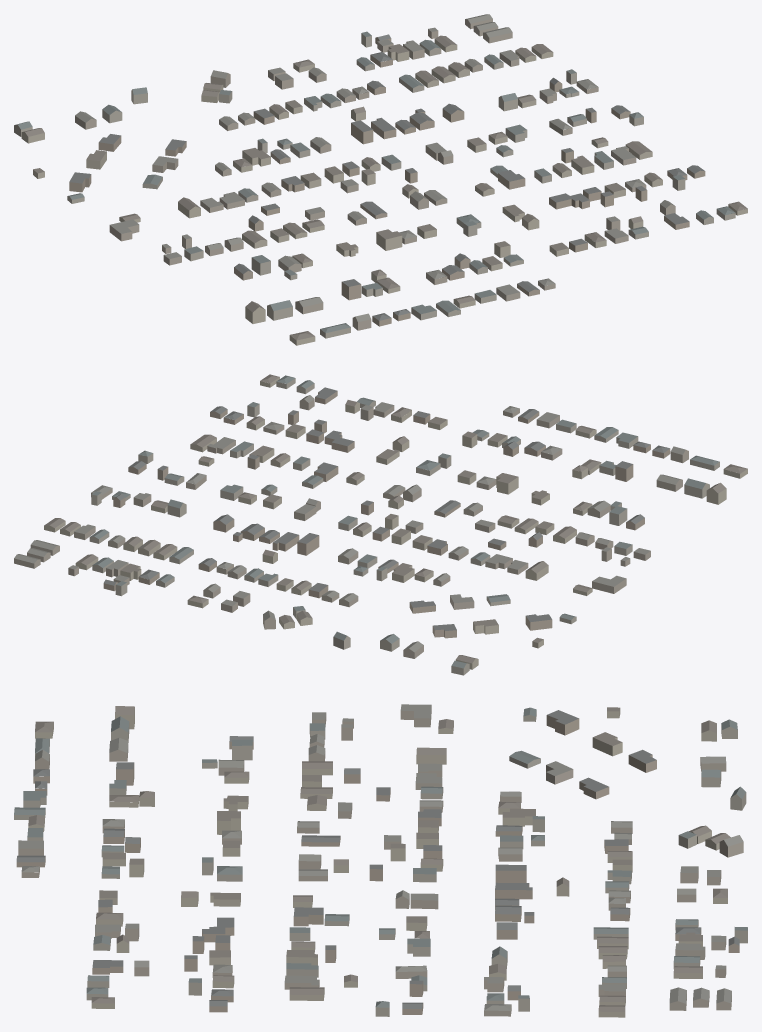
The model's file is fa3368ab8c05-chunk-1198_11842.glb.
3 renders of one model, top to bottom at view 1: azimuth 30°, elevation 25°; view 2: azimuth 150°, elevation 25°; view 3: azimuth 270°, elevation 25°, orthographic. The views are drawn at different scales.
Parts seen in each view (by area): view 1: no part large enough to name; view 2: no part large enough to name; view 3: building_110455, building_133702, building_14371, building_2987, building_167420, building_167501, building_59225, building_150658.
Part boxes in pixels (x1,y1,x2,y2): building_110455: (400, 704, 431, 727); building_133702: (546, 710, 579, 735); building_14371: (495, 882, 532, 899); building_2987: (495, 864, 526, 882); building_167420: (293, 907, 323, 926); building_167501: (202, 917, 234, 942); building_59225: (592, 732, 622, 756); building_150658: (502, 808, 535, 826).
Size of the model in its own units: 388 by 11.43 by 396.
